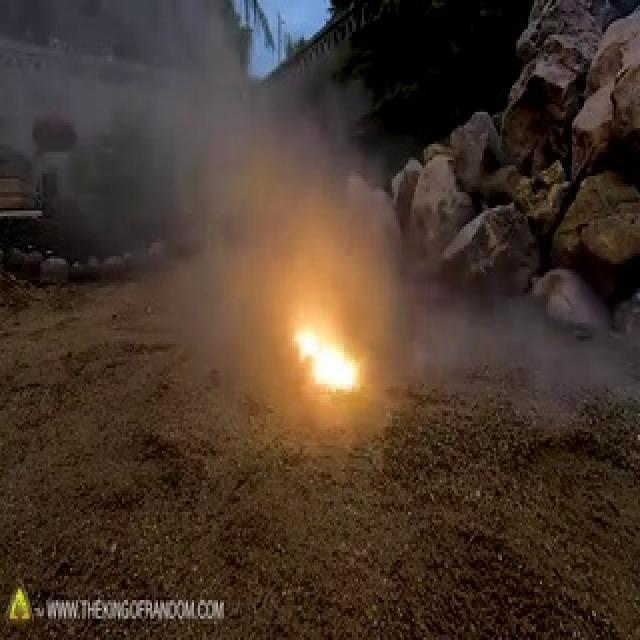fire: (286, 312, 374, 403)
